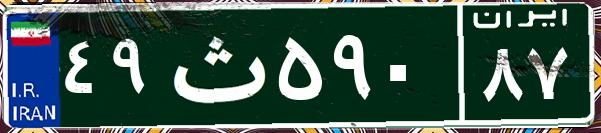0: (385, 28, 445, 110)
4: (57, 26, 110, 107)
5: (273, 28, 330, 110)
7: (525, 38, 570, 115)
8: (475, 38, 525, 113)
9: (330, 28, 385, 110), (110, 28, 158, 105)
ث: (158, 15, 273, 115)
